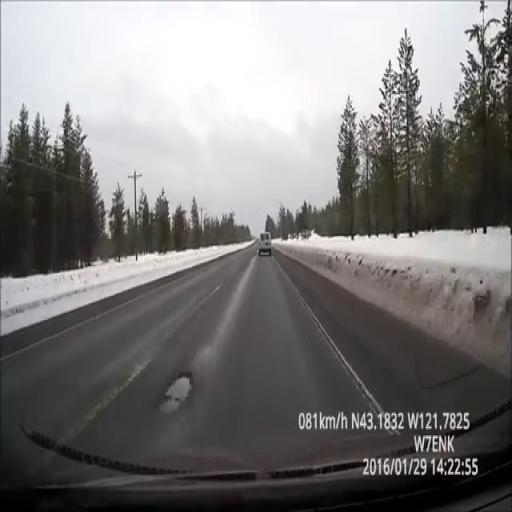Potholes: (163, 353, 206, 422)
